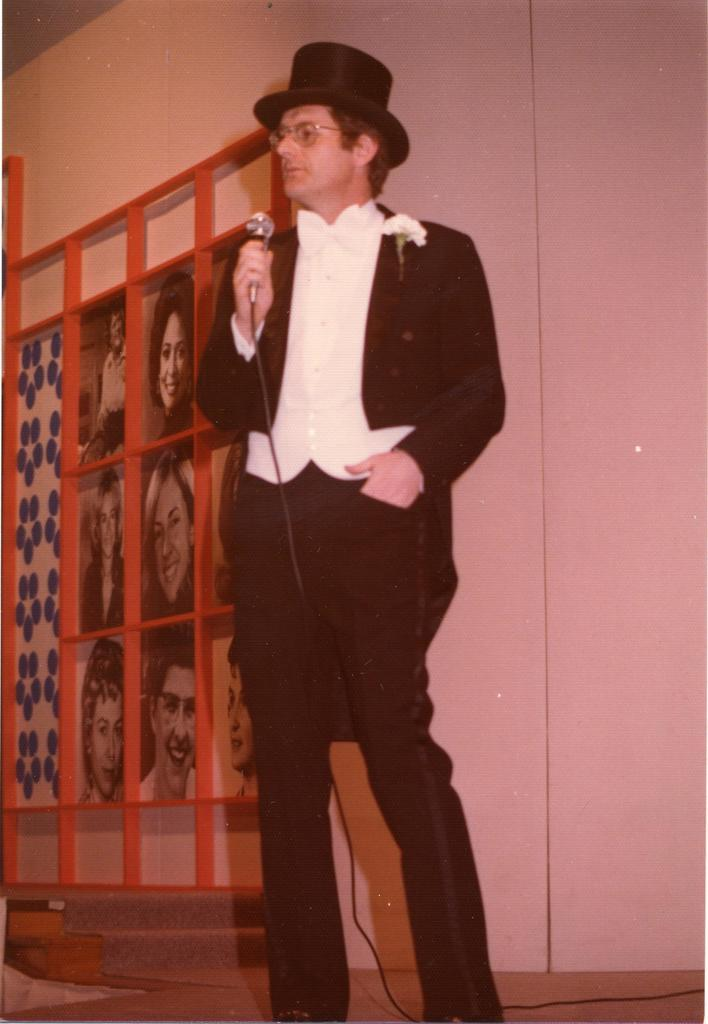Hat: (251, 42, 408, 170)
